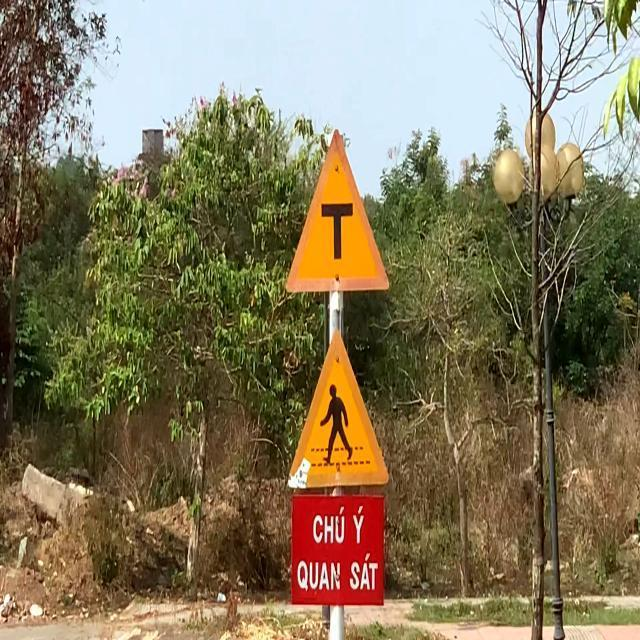205-duong-giao-nhau: (282, 127, 394, 296)
224-duong-nguoi-di-bo-cat-ngang: (286, 333, 392, 491)
